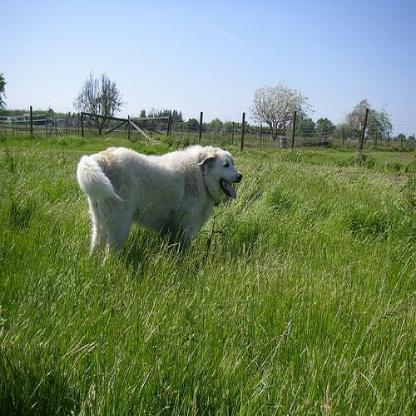Great_Pyrenees: (76, 143, 240, 264)
